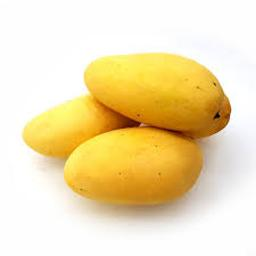Mango Fresh: (68, 42, 235, 137), (54, 119, 211, 215), (15, 80, 136, 158)
